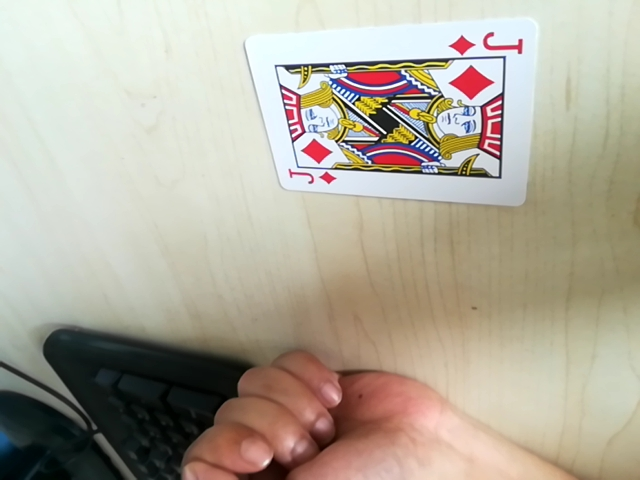fk j: (449, 25, 527, 59), (285, 165, 338, 191)
